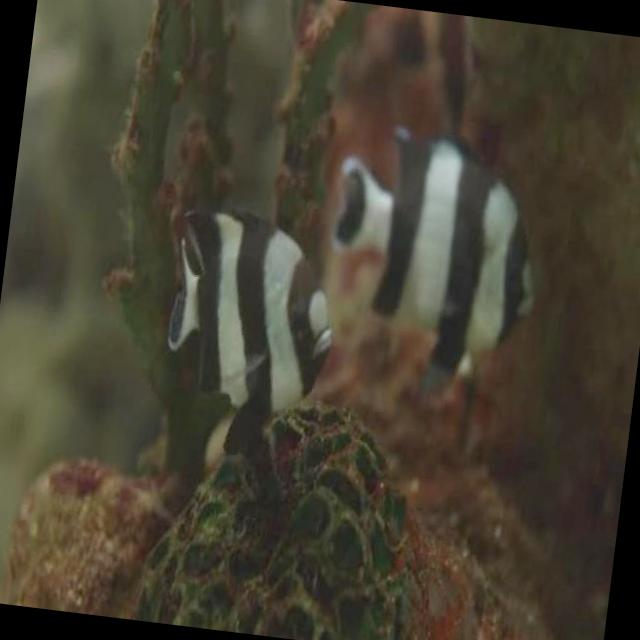Three_striped DasmselFish: (310, 115, 554, 388), (148, 203, 344, 462)
